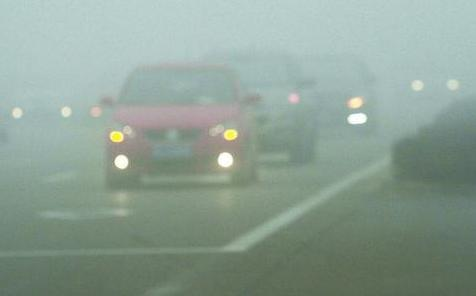car: (99, 62, 264, 188), (192, 48, 320, 164), (273, 52, 381, 143)
